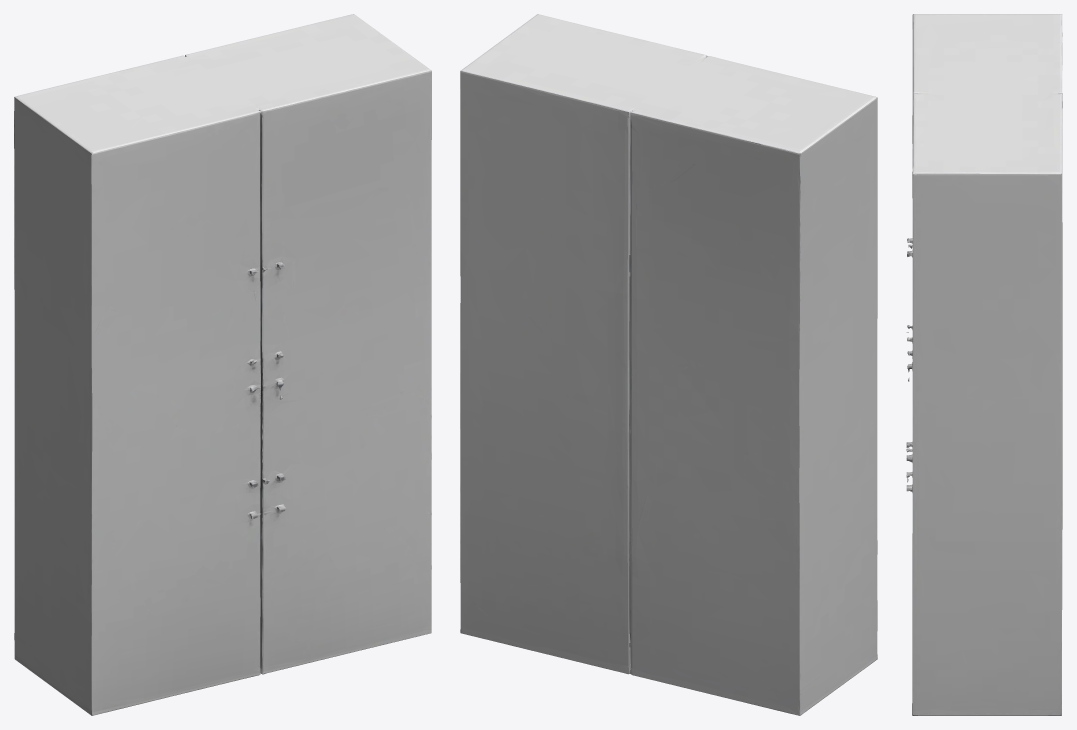
The picture shows the model from 3 angles, left to right: view 1: azimuth 30°, elevation 25°; view 2: azimuth 150°, elevation 25°; view 3: azimuth 270°, elevation 25°; orthographic projection. The views are drawn at different scales.
Visible parts, largest first — view 1: world; view 2: world; view 3: world.
Part boxes in pixels (x1,y1,x2,y2): world: (14,14,431,715); world: (460,14,877,715); world: (906,14,1062,715).
Size of the model in its own units: 0.6321 by 1 by 0.2613.
Materials: 1 (1 with a texture image).
